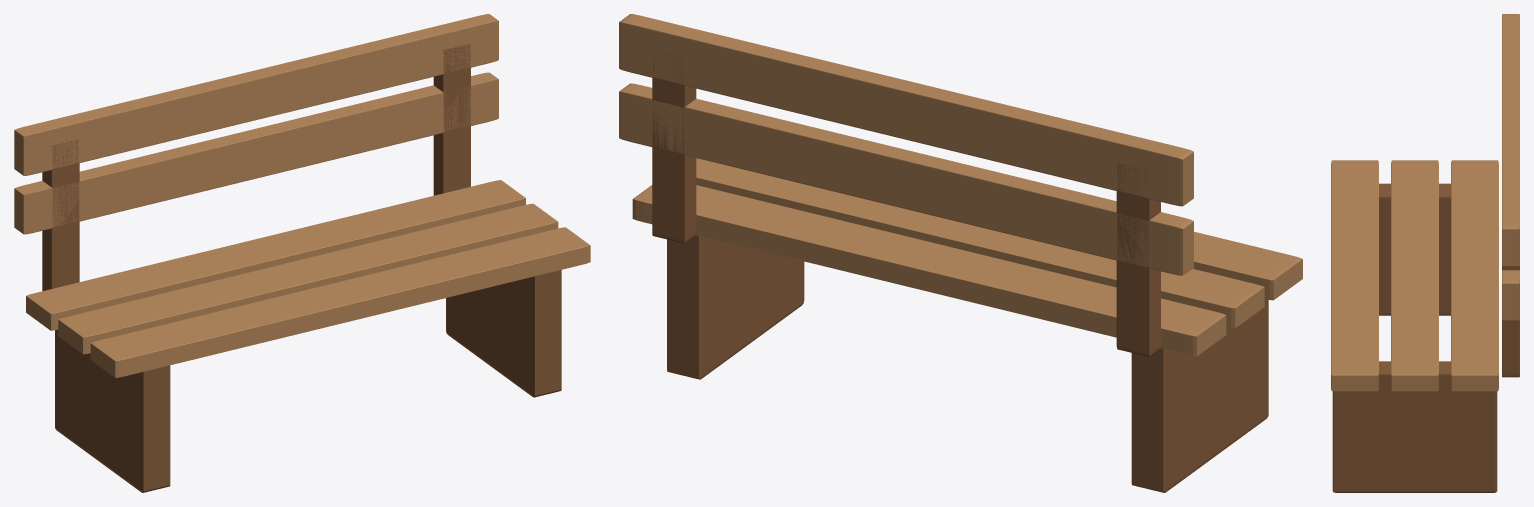
The model's file is bench.glb.
3 views of the same model, side by side, from view 1: azimuth 30°, elevation 25°; view 2: azimuth 150°, elevation 25°; view 3: azimuth 270°, elevation 25° (orthographic). The views are drawn at different scales.
Parts seen in each view (by area): view 1: bench; view 2: bench; view 3: bench.
Part boxes in pixels (bbox=[...]): bench: bbox=[14, 14, 590, 492]; bench: bbox=[619, 14, 1302, 492]; bench: bbox=[1331, 14, 1519, 492].
Bounding box in the file's own units: 1.7 × 1.02 × 0.63.
